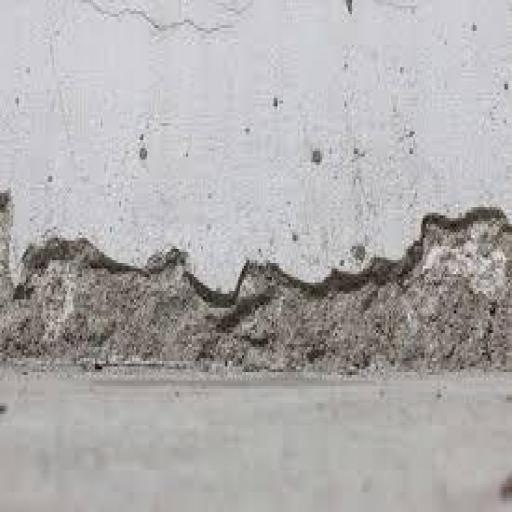spalling: (2, 193, 512, 367)
